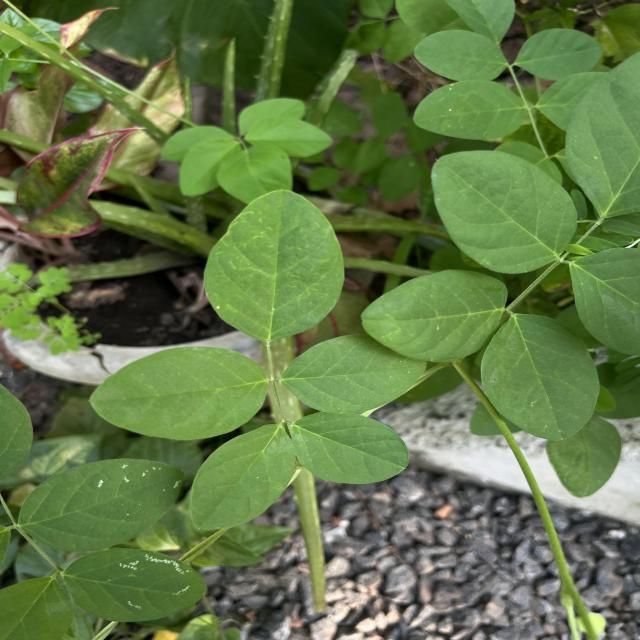Clitoria ternatea: (201, 188, 346, 346), (428, 148, 580, 276), (88, 344, 269, 442), (478, 310, 602, 443), (359, 267, 507, 363), (188, 422, 300, 532), (282, 332, 429, 414), (290, 410, 410, 486)
